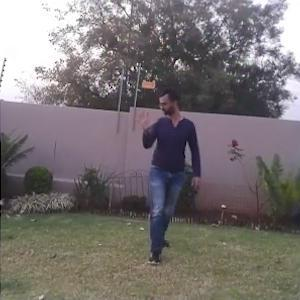follow_hand: (134, 107, 153, 134)
